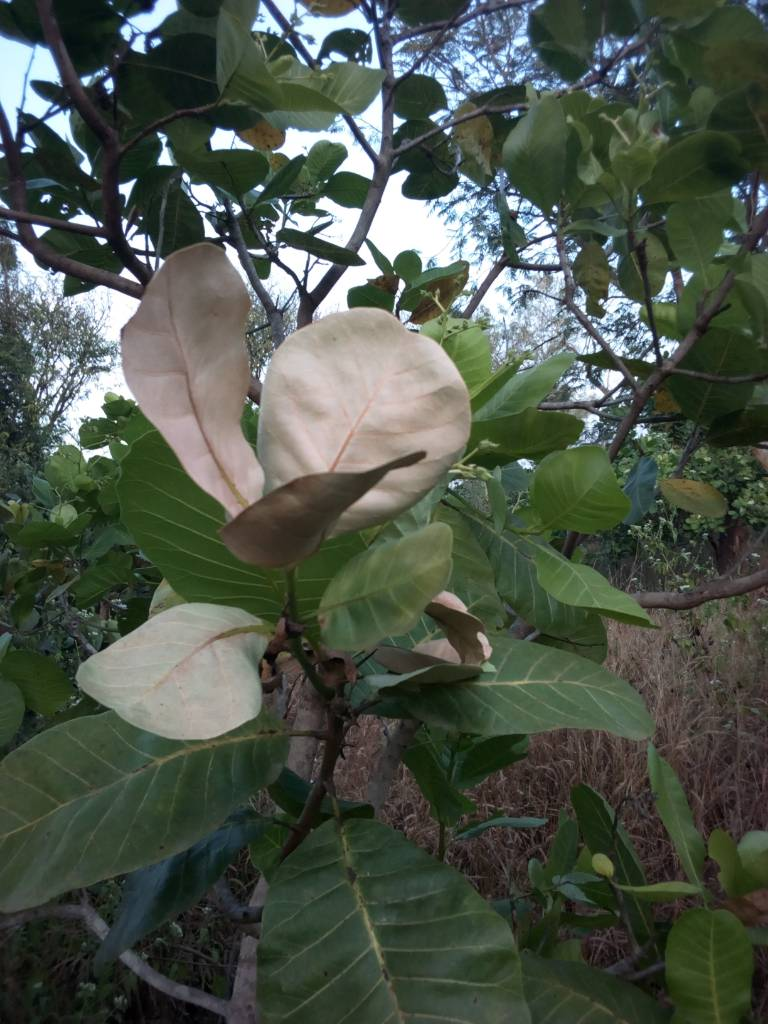Dessèchement des bourgeons: (293, 621, 357, 752)
